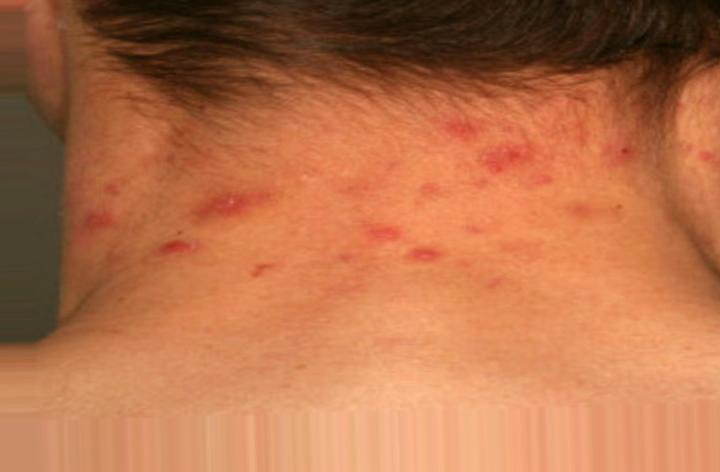Folliculitis: (146, 104, 648, 300)
